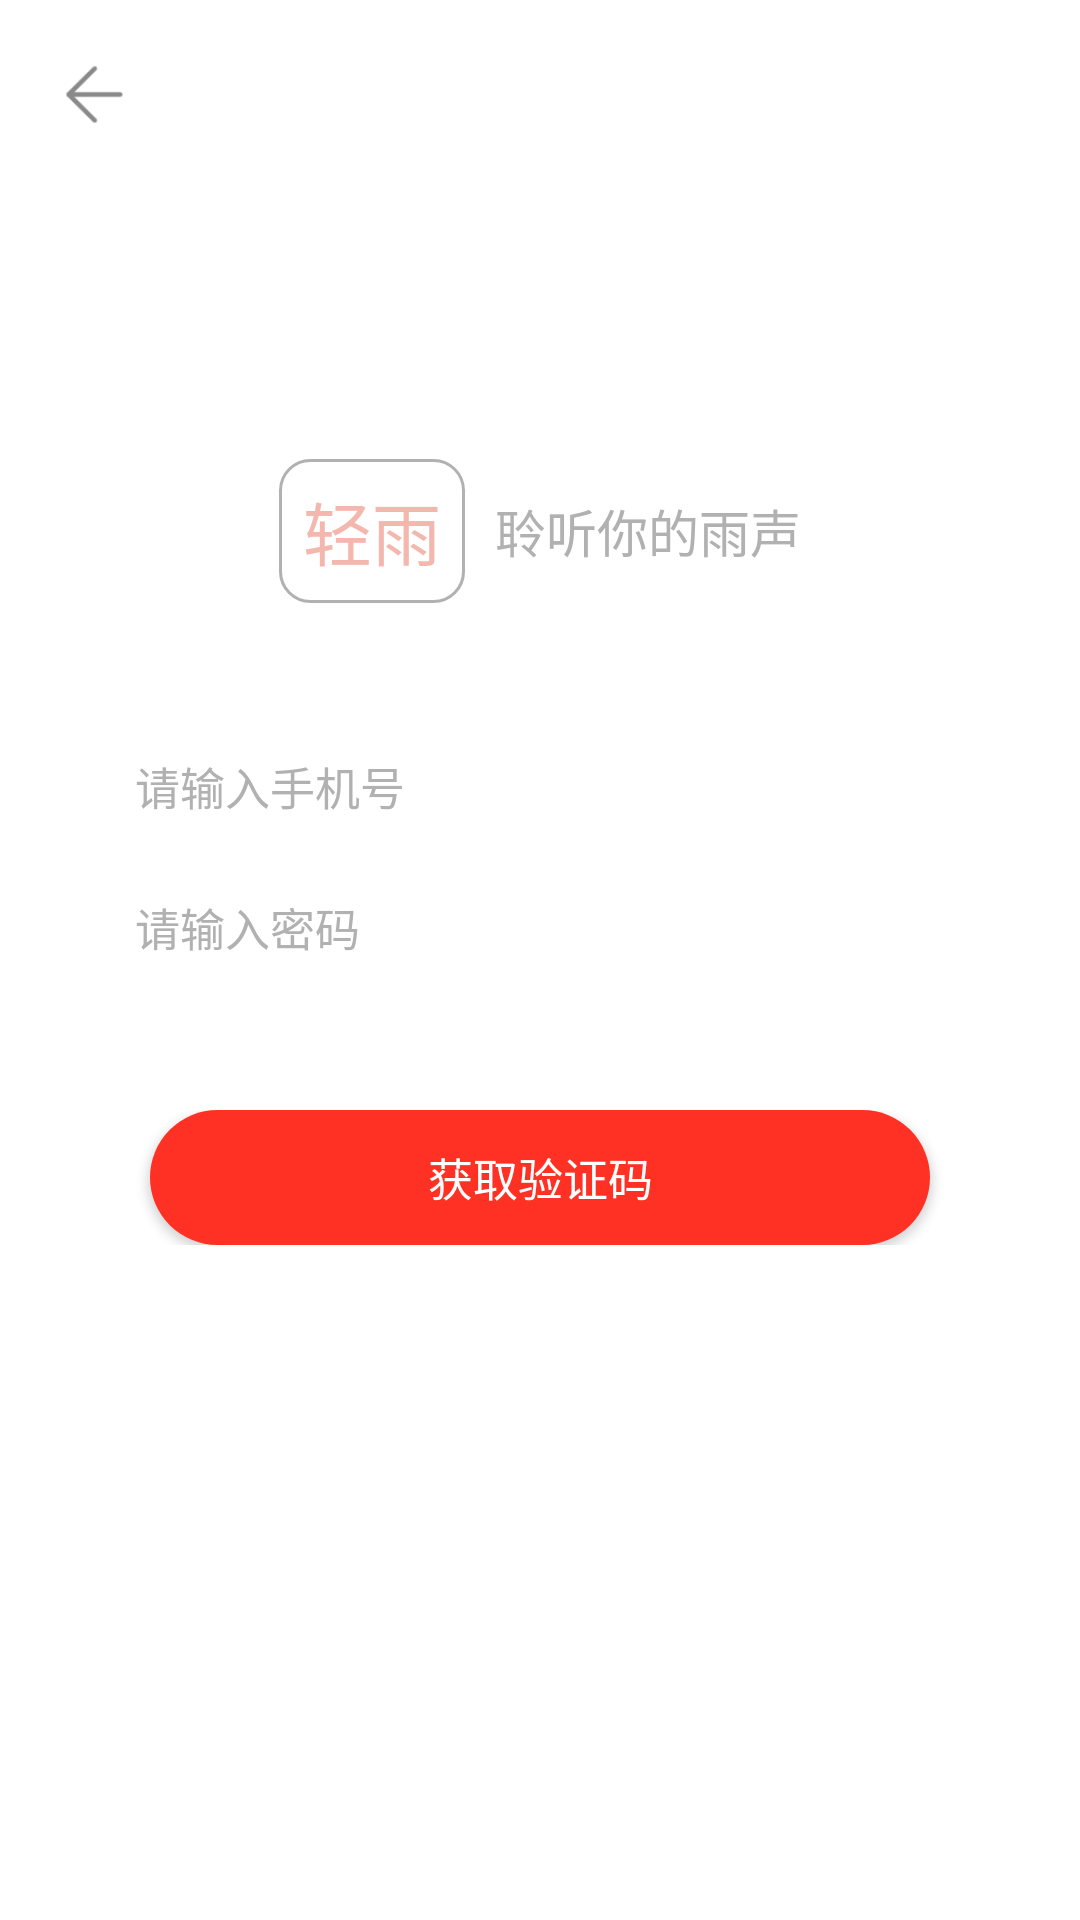

Point at icon controls on the screen. Image size 1080px×1920px, points as (x,y).
arrow left: (94,94)
